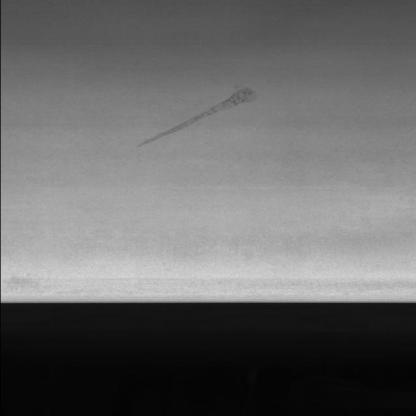water_spot: (126, 72, 276, 152)
